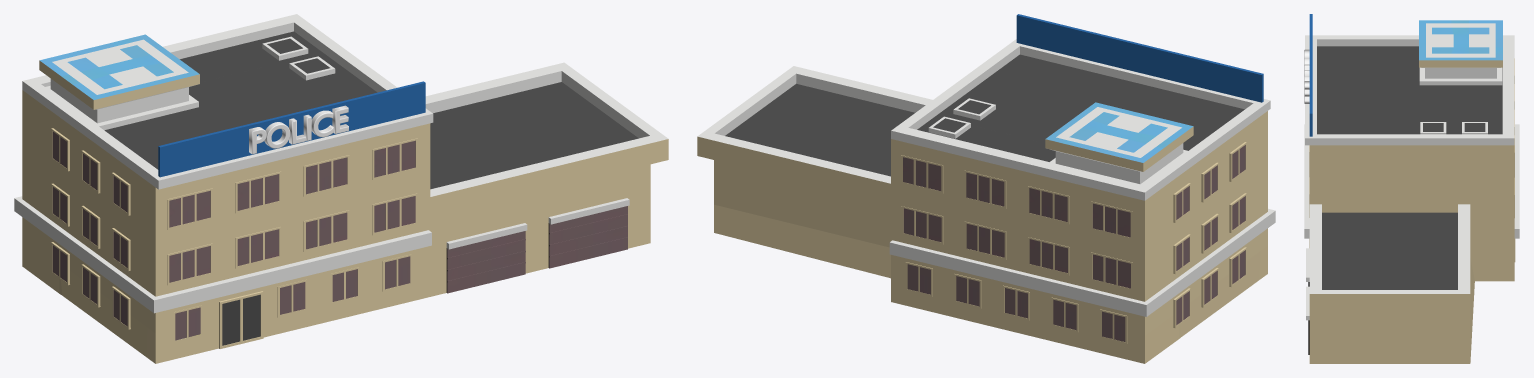
Rendered from police.glb.
3 renders of one model, left to right at view 1: azimuth 30°, elevation 25°; view 2: azimuth 150°, elevation 25°; view 3: azimuth 270°, elevation 25°, orthographic. The views are drawn at different scales.
Parts seen in each view (by area): view 1: Cube; view 2: Cube; view 3: Cube.
Boxes of the visible parts, x1,y1,x2,y2 form: Cube: (14,14,668,363); Cube: (697,14,1275,363); Cube: (1304,14,1519,363).
Size of the model in its own units: 3550 by 1412 by 1660.
2 materials, 2 textured.
